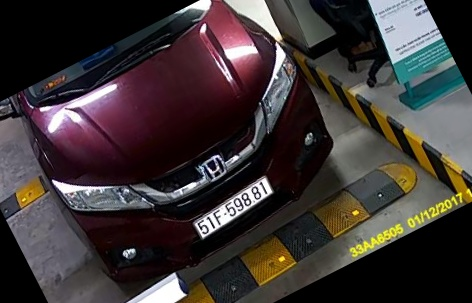plate: (193, 181, 278, 248)
